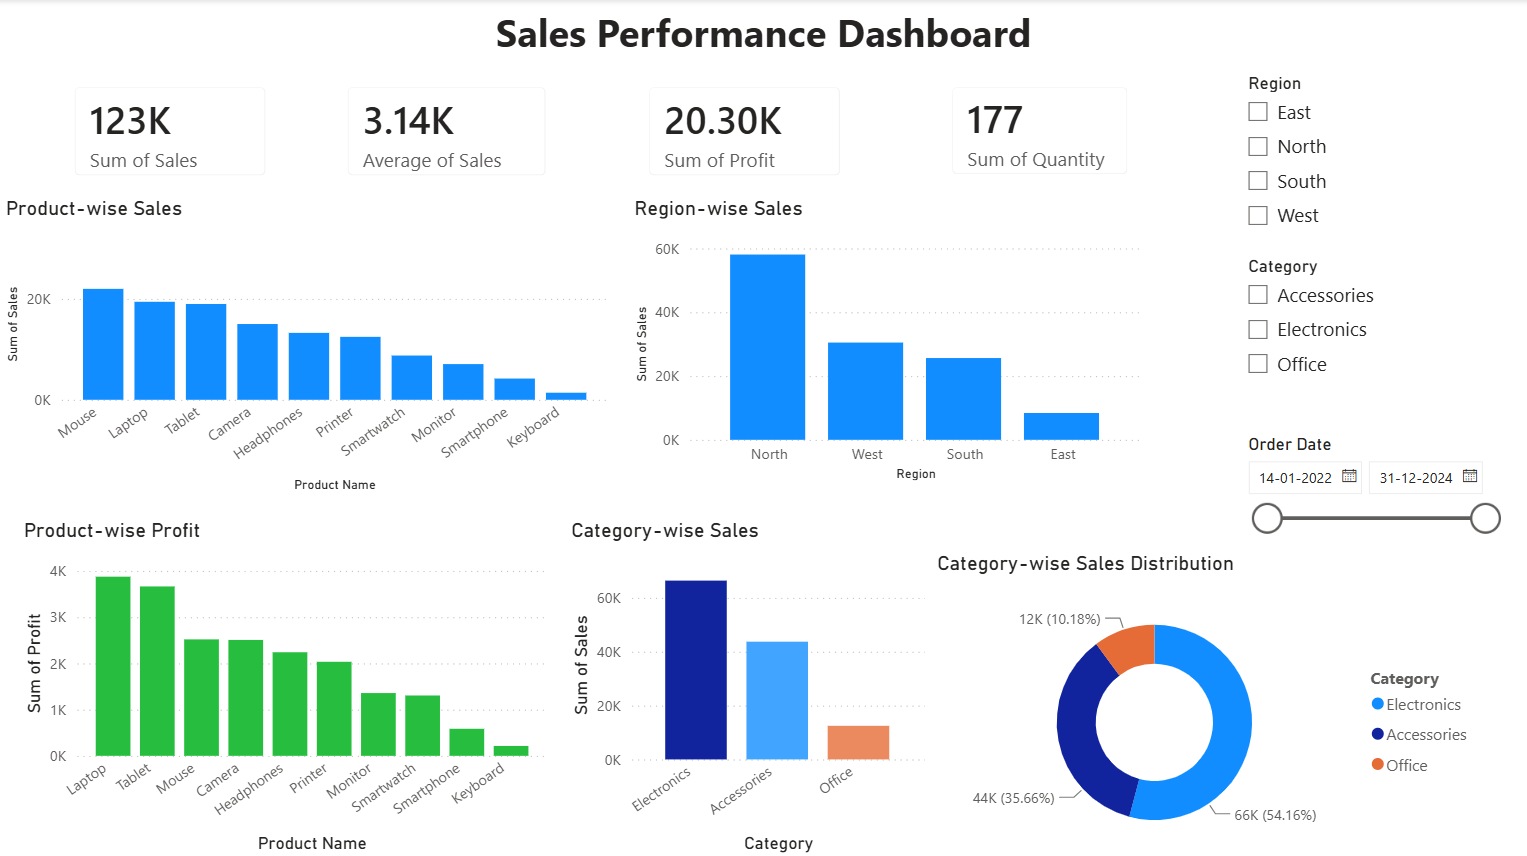

This screenshot's page, from the dashboard's own definition file:
{"tool":"powerbi","page":{"name":"Page 1","canvas":[1280,720],"ordinal":0},"visuals":[{"type":"cardVisual","fields":{"Data":["Sum(sales_data.Sales)"]},"box":[45.4,56.7,194,108],"z":0},{"type":"cardVisual","fields":{"Data":["Sum(sales_data.Quantity)"]},"box":[780.5,56.7,181.4,107.7],"z":2},{"type":"cardVisual","fields":{"Data":["Avg(sales_data.Sales)"]},"box":[274,56,200,108],"z":3},{"type":"clusteredColumnChart","title":"Product-wise Sales","fields":{"Category":["sales_data.Product Name"],"Y":["Sum(sales_data.Sales)"]},"box":[0,164.4,514,253.2],"z":4},{"type":"cardVisual","fields":{"Data":["Sum(sales_data.Profit)"]},"box":[527.2,56.7,194,108],"z":5},{"type":"clusteredColumnChart","title":"Category-wise Sales","fields":{"Category":["sales_data.Category"],"Y":["Sum(sales_data.Sales)"]},"box":[474.3,434.6,306.1,285.4],"z":6},{"type":"clusteredColumnChart","title":"Region-wise Sales","fields":{"Category":["sales_data.Region"],"Y":["Sum(sales_data.Sales)"]},"box":[527.2,164.4,434.6,243.8],"z":7},{"type":"clusteredColumnChart","title":"Product-wise Profit","fields":{"Category":["sales_data.Product Name"],"Y":["Sum(sales_data.Profit)"]},"box":[15.1,434.6,447.9,285.4],"z":8},{"type":"donutChart","title":"Category-wise Sales Distribution","fields":{"Category":["sales_data.Category"],"Y":["Sum(sales_data.Sales)"]},"box":[780.5,463,463,257],"z":9},{"type":"slicer","fields":{"Values":["sales_data.Region"]},"box":[1033.7,56.7,232.4,147.4],"z":10},{"type":"slicer","fields":{"Values":["sales_data.Category"]},"box":[1033.7,209.8,232.4,149.3],"z":11},{"type":"slicer","fields":{"Values":["sales_data.Order Date"]},"box":[1033.7,359.1,232.4,151.2],"z":12},{"type":"textbox","box":[0,0,1280,56],"z":13}]}

Visuals, with their boxes in screenshot pixels (x1, y1, x2, y2), scaled from the page's 1280x720 canvas onto the 1527x856 screenshot:
cardVisual - Sum(sales_data.Sales): crop(54, 67, 286, 196)
cardVisual - Sum(sales_data.Quantity): crop(931, 67, 1148, 195)
cardVisual - Avg(sales_data.Sales): crop(327, 67, 565, 195)
"Product-wise Sales" clusteredColumnChart: crop(0, 195, 613, 496)
cardVisual - Sum(sales_data.Profit): crop(629, 67, 860, 196)
"Category-wise Sales" clusteredColumnChart: crop(566, 517, 931, 855)
"Region-wise Sales" clusteredColumnChart: crop(629, 195, 1147, 485)
"Product-wise Profit" clusteredColumnChart: crop(18, 517, 552, 855)
"Category-wise Sales Distribution" donutChart: crop(931, 550, 1483, 855)
slicer - sales_data.Region: crop(1233, 67, 1510, 243)
slicer - sales_data.Category: crop(1233, 249, 1510, 427)
slicer - sales_data.Order Date: crop(1233, 427, 1510, 607)
textbox: crop(0, 0, 1526, 67)
